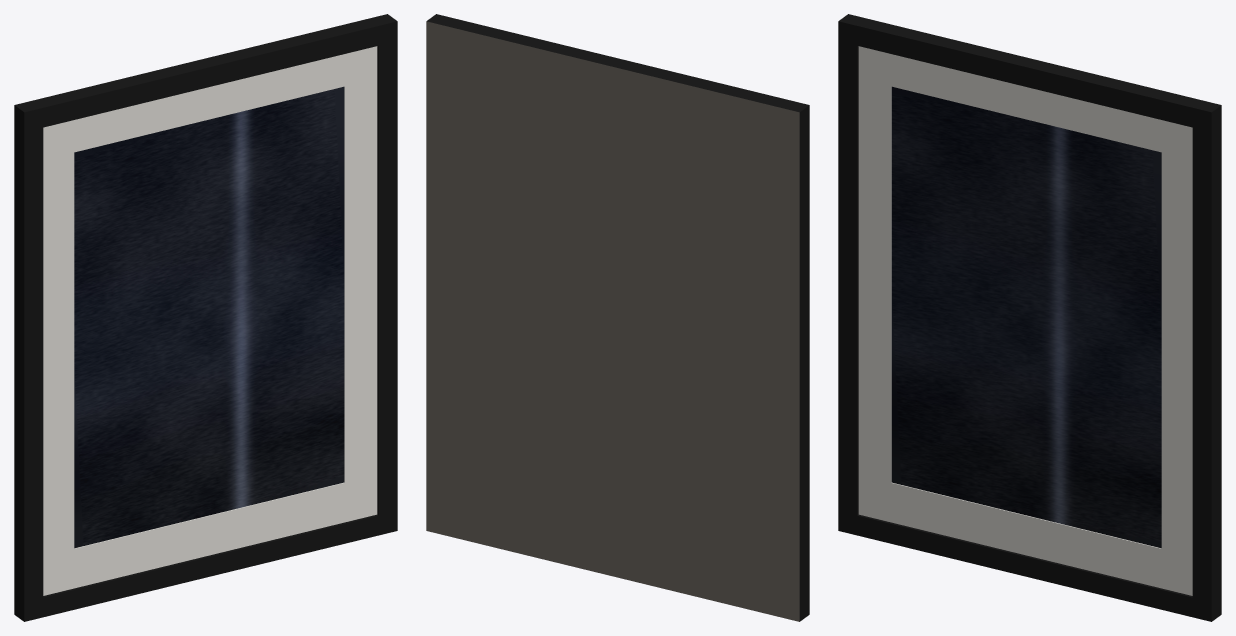
3 renders of one model, left to right at view 1: azimuth 30°, elevation 25°; view 2: azimuth 150°, elevation 25°; view 3: azimuth 330°, elevation 25°, orthographic.
Parts seen in each view (by area): view 1: front, mat, frame; view 2: back, frame; view 3: front, mat, frame.
Part boxes in pixels (x1,y1,x2,y2): front: (74,86,344,548); mat: (43,46,377,595); frame: (14,14,397,621); back: (426,21,799,621); frame: (427,14,809,621); front: (891,86,1161,548); mat: (858,46,1192,595); frame: (838,14,1221,621).
Bounding box in the file's own units: 0.69 × 0.9 × 0.032.
Materials: 4 (1 with a texture image).
